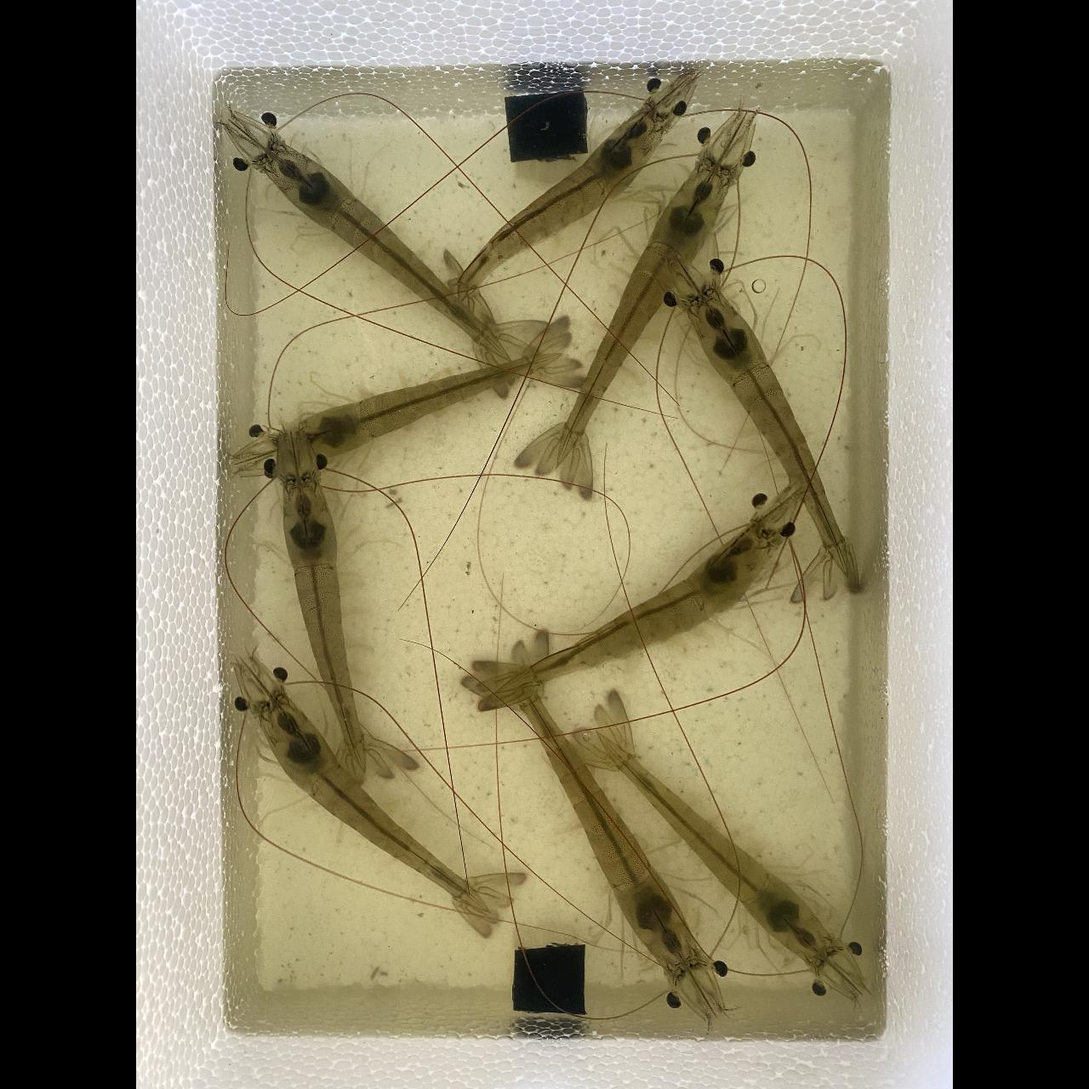box: (505, 92, 587, 162), (512, 945, 585, 1014)
top_shrimp: (555, 162, 735, 472), (263, 143, 511, 360), (597, 734, 833, 959), (518, 675, 697, 968), (261, 695, 488, 912), (489, 524, 781, 692), (690, 292, 844, 576), (454, 110, 666, 309), (280, 354, 563, 463), (285, 476, 365, 773)
